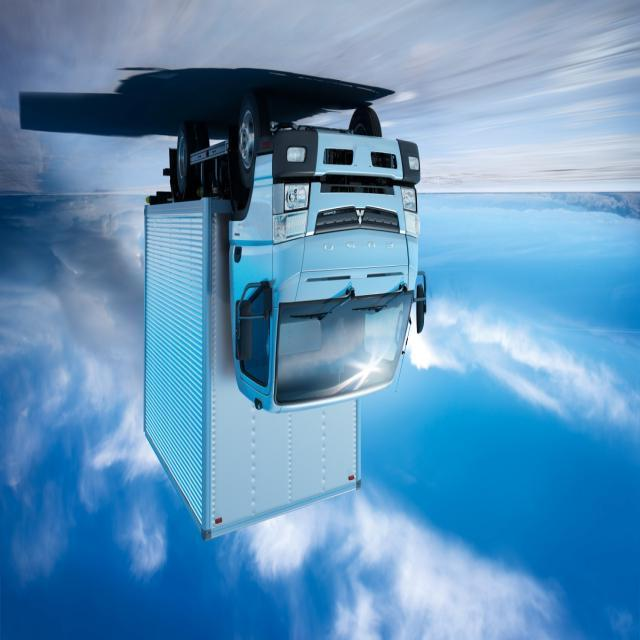truck: (140, 100, 426, 544)
